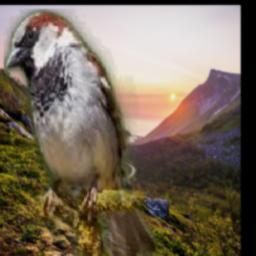Sparrow: (4, 9, 157, 256)
